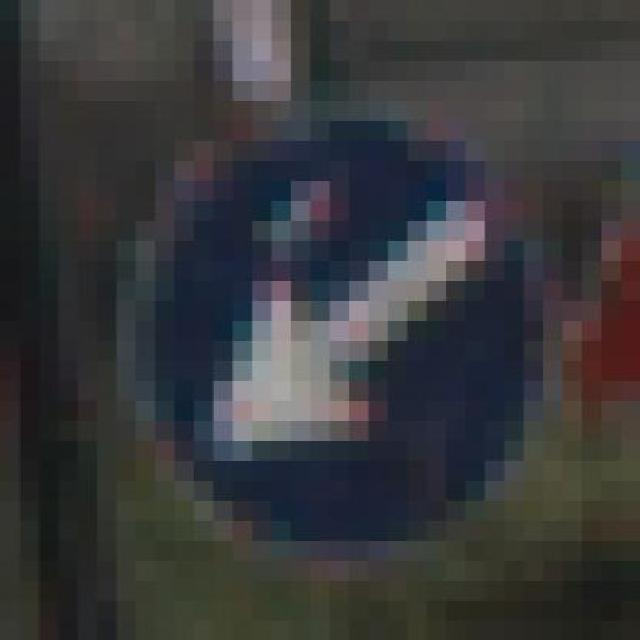Keep-Left: (116, 80, 582, 600)
